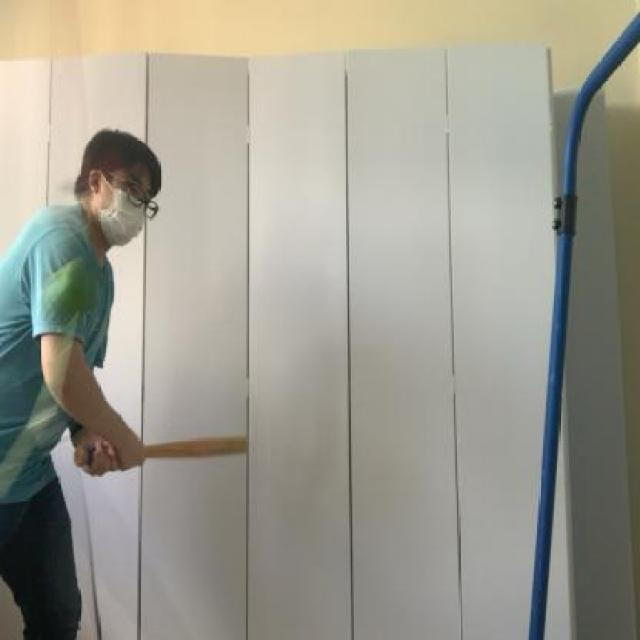baseball: (40, 241, 106, 324)
